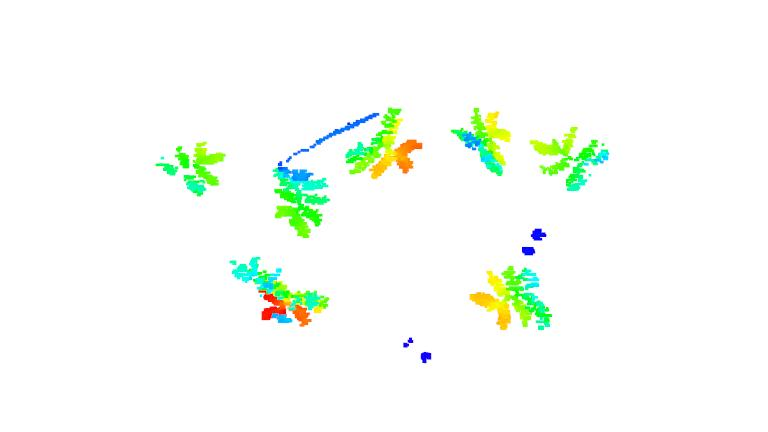chickpea: (228, 254, 333, 328), (465, 262, 553, 333), (347, 106, 422, 182), (530, 125, 610, 194), (451, 103, 518, 176), (154, 139, 228, 199), (270, 161, 328, 237)
